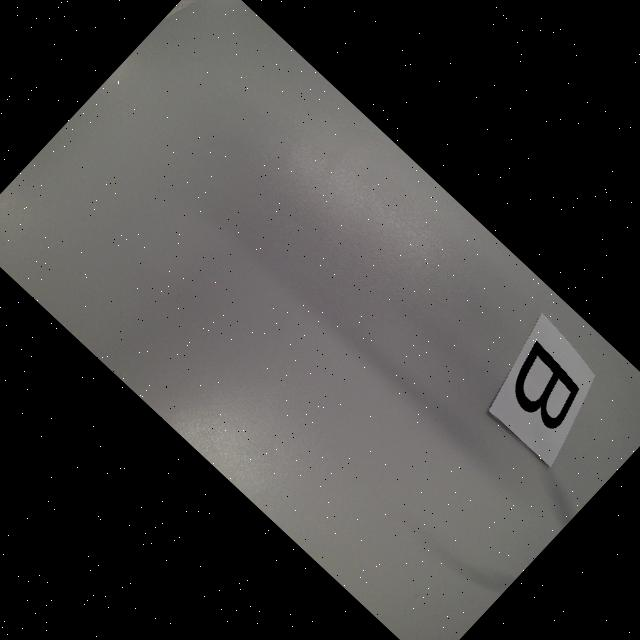FAKE: (496, 341, 592, 435)
